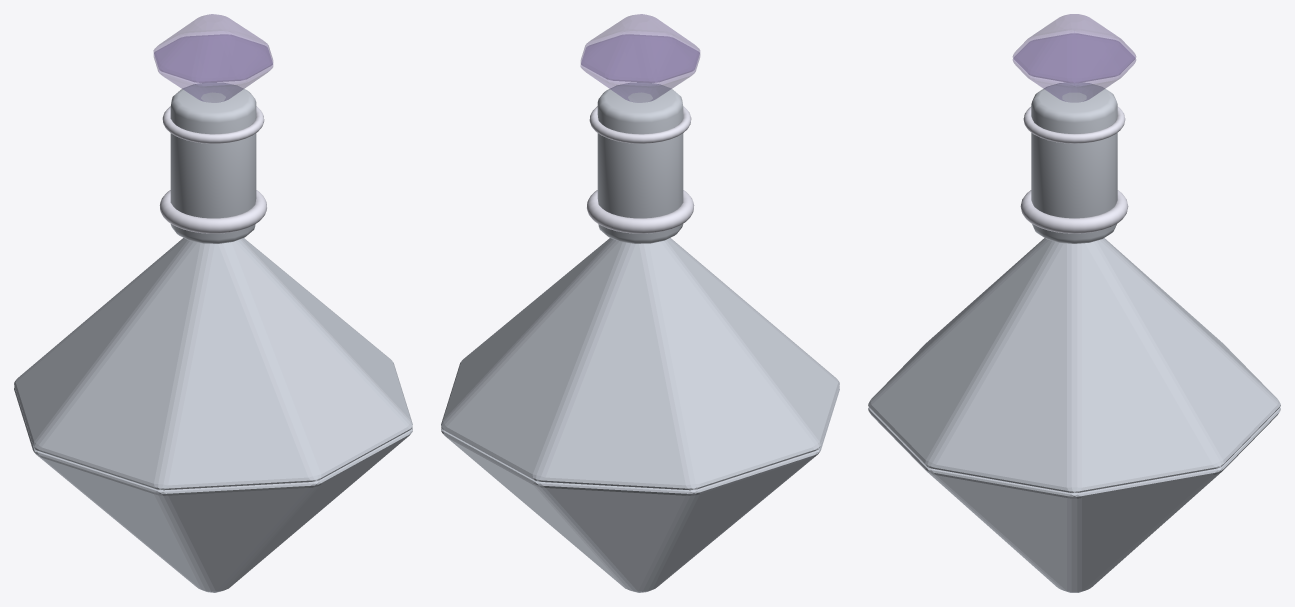
File: alchemy_jar_detailed.glb
3 renders of one model, left to right at view 1: azimuth 30°, elevation 25°; view 2: azimuth 150°, elevation 25°; view 3: azimuth 270°, elevation 25°, orthographic.
Parts seen in each view (by area): view 1: AlchemyFlask, Stopper; view 2: AlchemyFlask, Stopper; view 3: AlchemyFlask, Stopper.
Part boxes in pixels (box(x1,y1,x2,y2)): AlchemyFlask: box(14, 82, 412, 592); Stopper: box(153, 14, 273, 102); AlchemyFlask: box(441, 82, 839, 592); Stopper: box(580, 14, 700, 102); AlchemyFlask: box(868, 82, 1280, 592); Stopper: box(1013, 14, 1135, 102).
Size of the model in its own units: 4.29 by 6.55 by 4.29.
